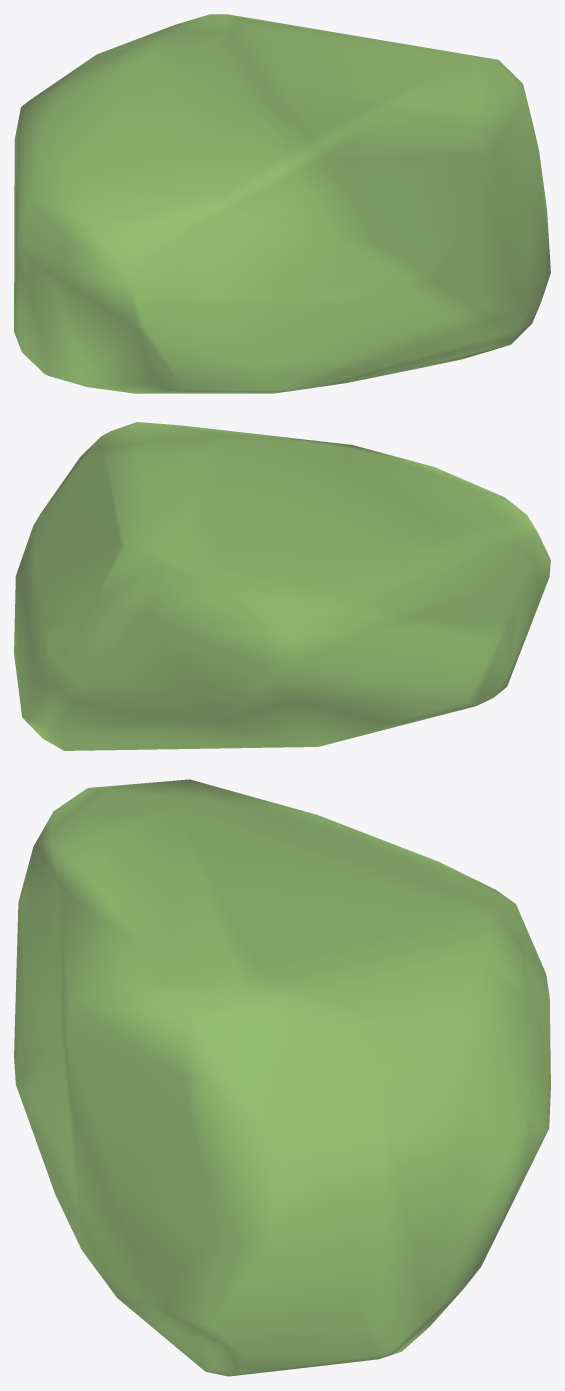
File: SMALL_desert_rock_02_Unity_colliders.fbx
3 renders of one model, top to bottom at view 1: azimuth 30°, elevation 25°; view 2: azimuth 150°, elevation 25°; view 3: azimuth 270°, elevation 25°, orthographic. The views are drawn at different scales.
Parts seen in each view (by area): view 1: SMALL_desert_rock_02_collider_01; view 2: SMALL_desert_rock_02_collider_01; view 3: SMALL_desert_rock_02_collider_01.
Part boxes in pixels (bbox=[...]): SMALL_desert_rock_02_collider_01: bbox=[14, 14, 550, 393]; SMALL_desert_rock_02_collider_01: bbox=[14, 422, 550, 750]; SMALL_desert_rock_02_collider_01: bbox=[14, 779, 550, 1376].
Bounding box in the file's own units: 44.68 × 24.36 × 32.32.
